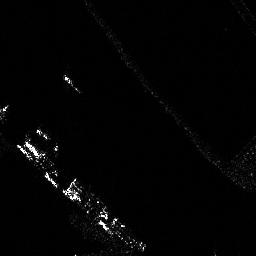ship: (34, 128, 60, 151), (62, 74, 80, 93)
